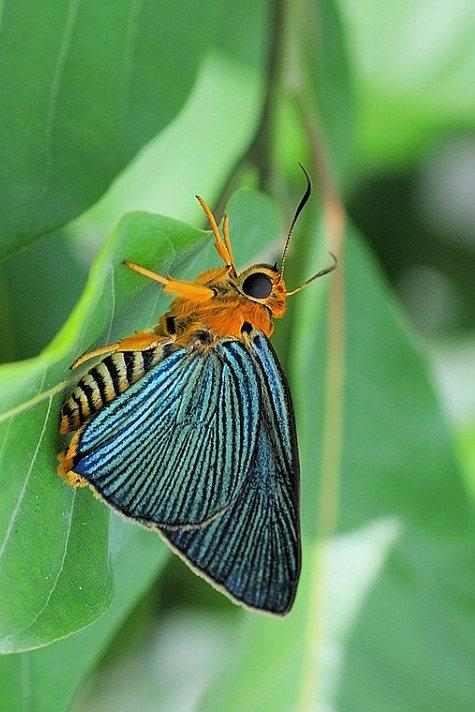Hesperiidae: (59, 164, 344, 617)
